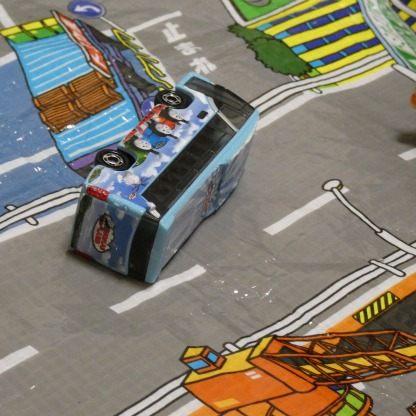car: (65, 73, 262, 287)
